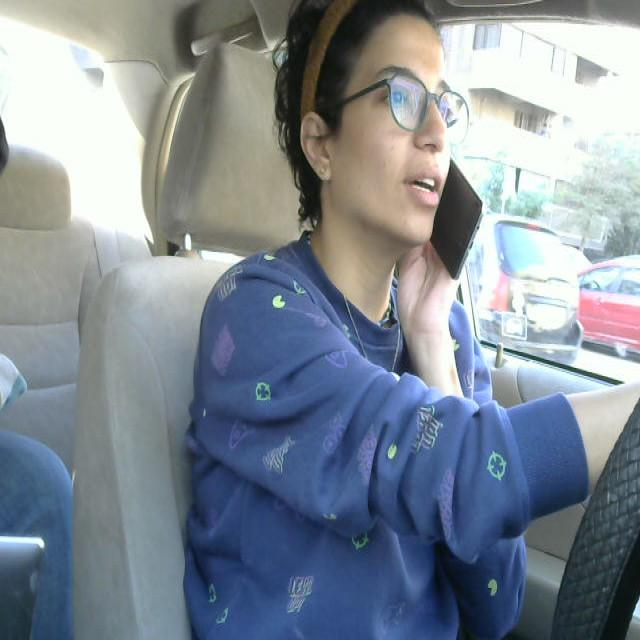mobile use: (421, 148, 486, 286)
